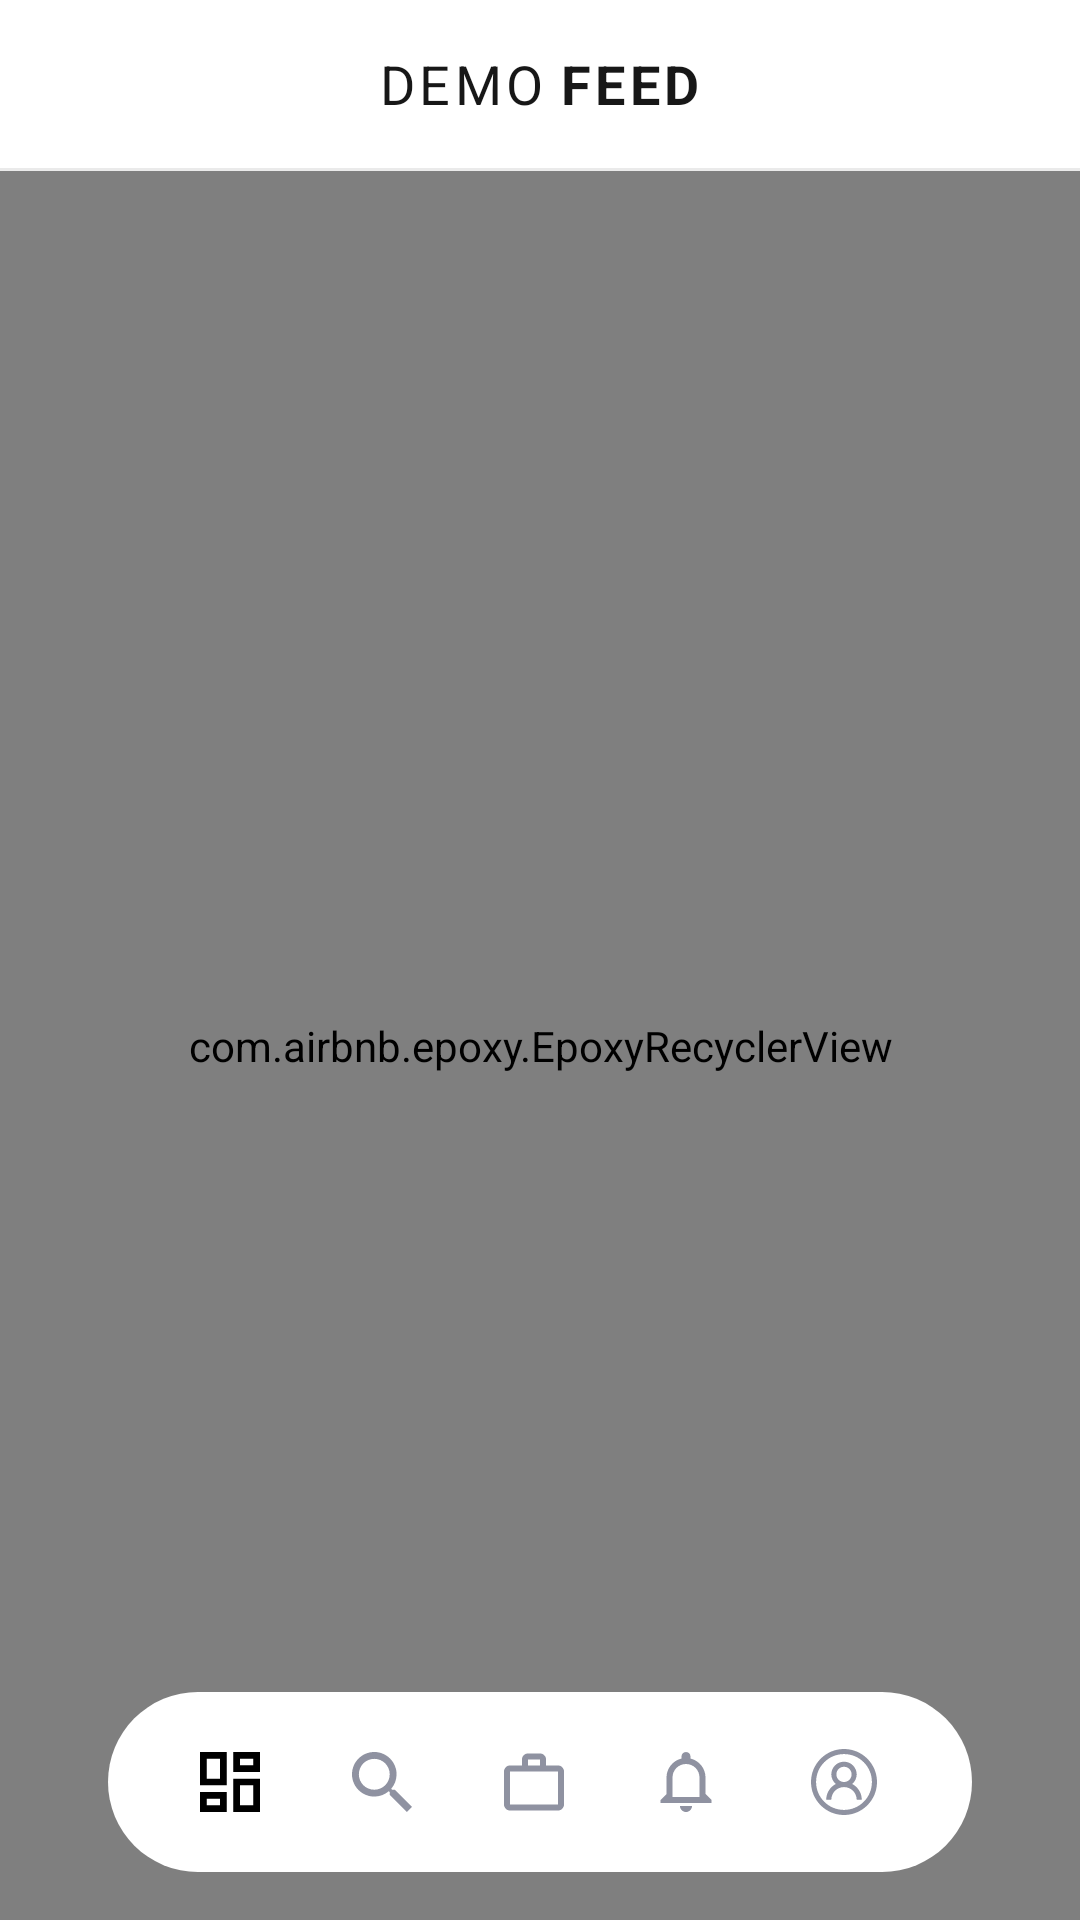

Screen size 1080px×1920px. Icon name, then its center in pixels as [x,y]:
hadnback: [534,1782]
notification: [686,1782]
profile: [844,1782]
search: [382,1782]
